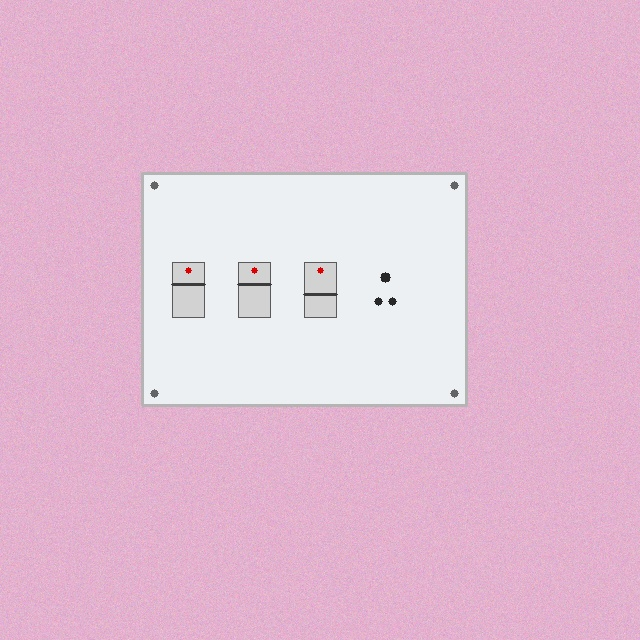switchboard: (142, 173, 466, 405)
